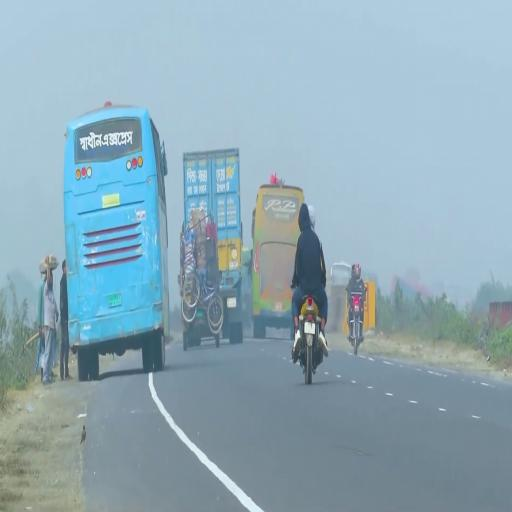bicycle: (181, 261, 223, 332)
bus: (66, 109, 167, 375), (254, 183, 293, 336)
motorbike: (292, 280, 328, 379), (348, 286, 368, 355)
truck: (183, 151, 245, 342)
